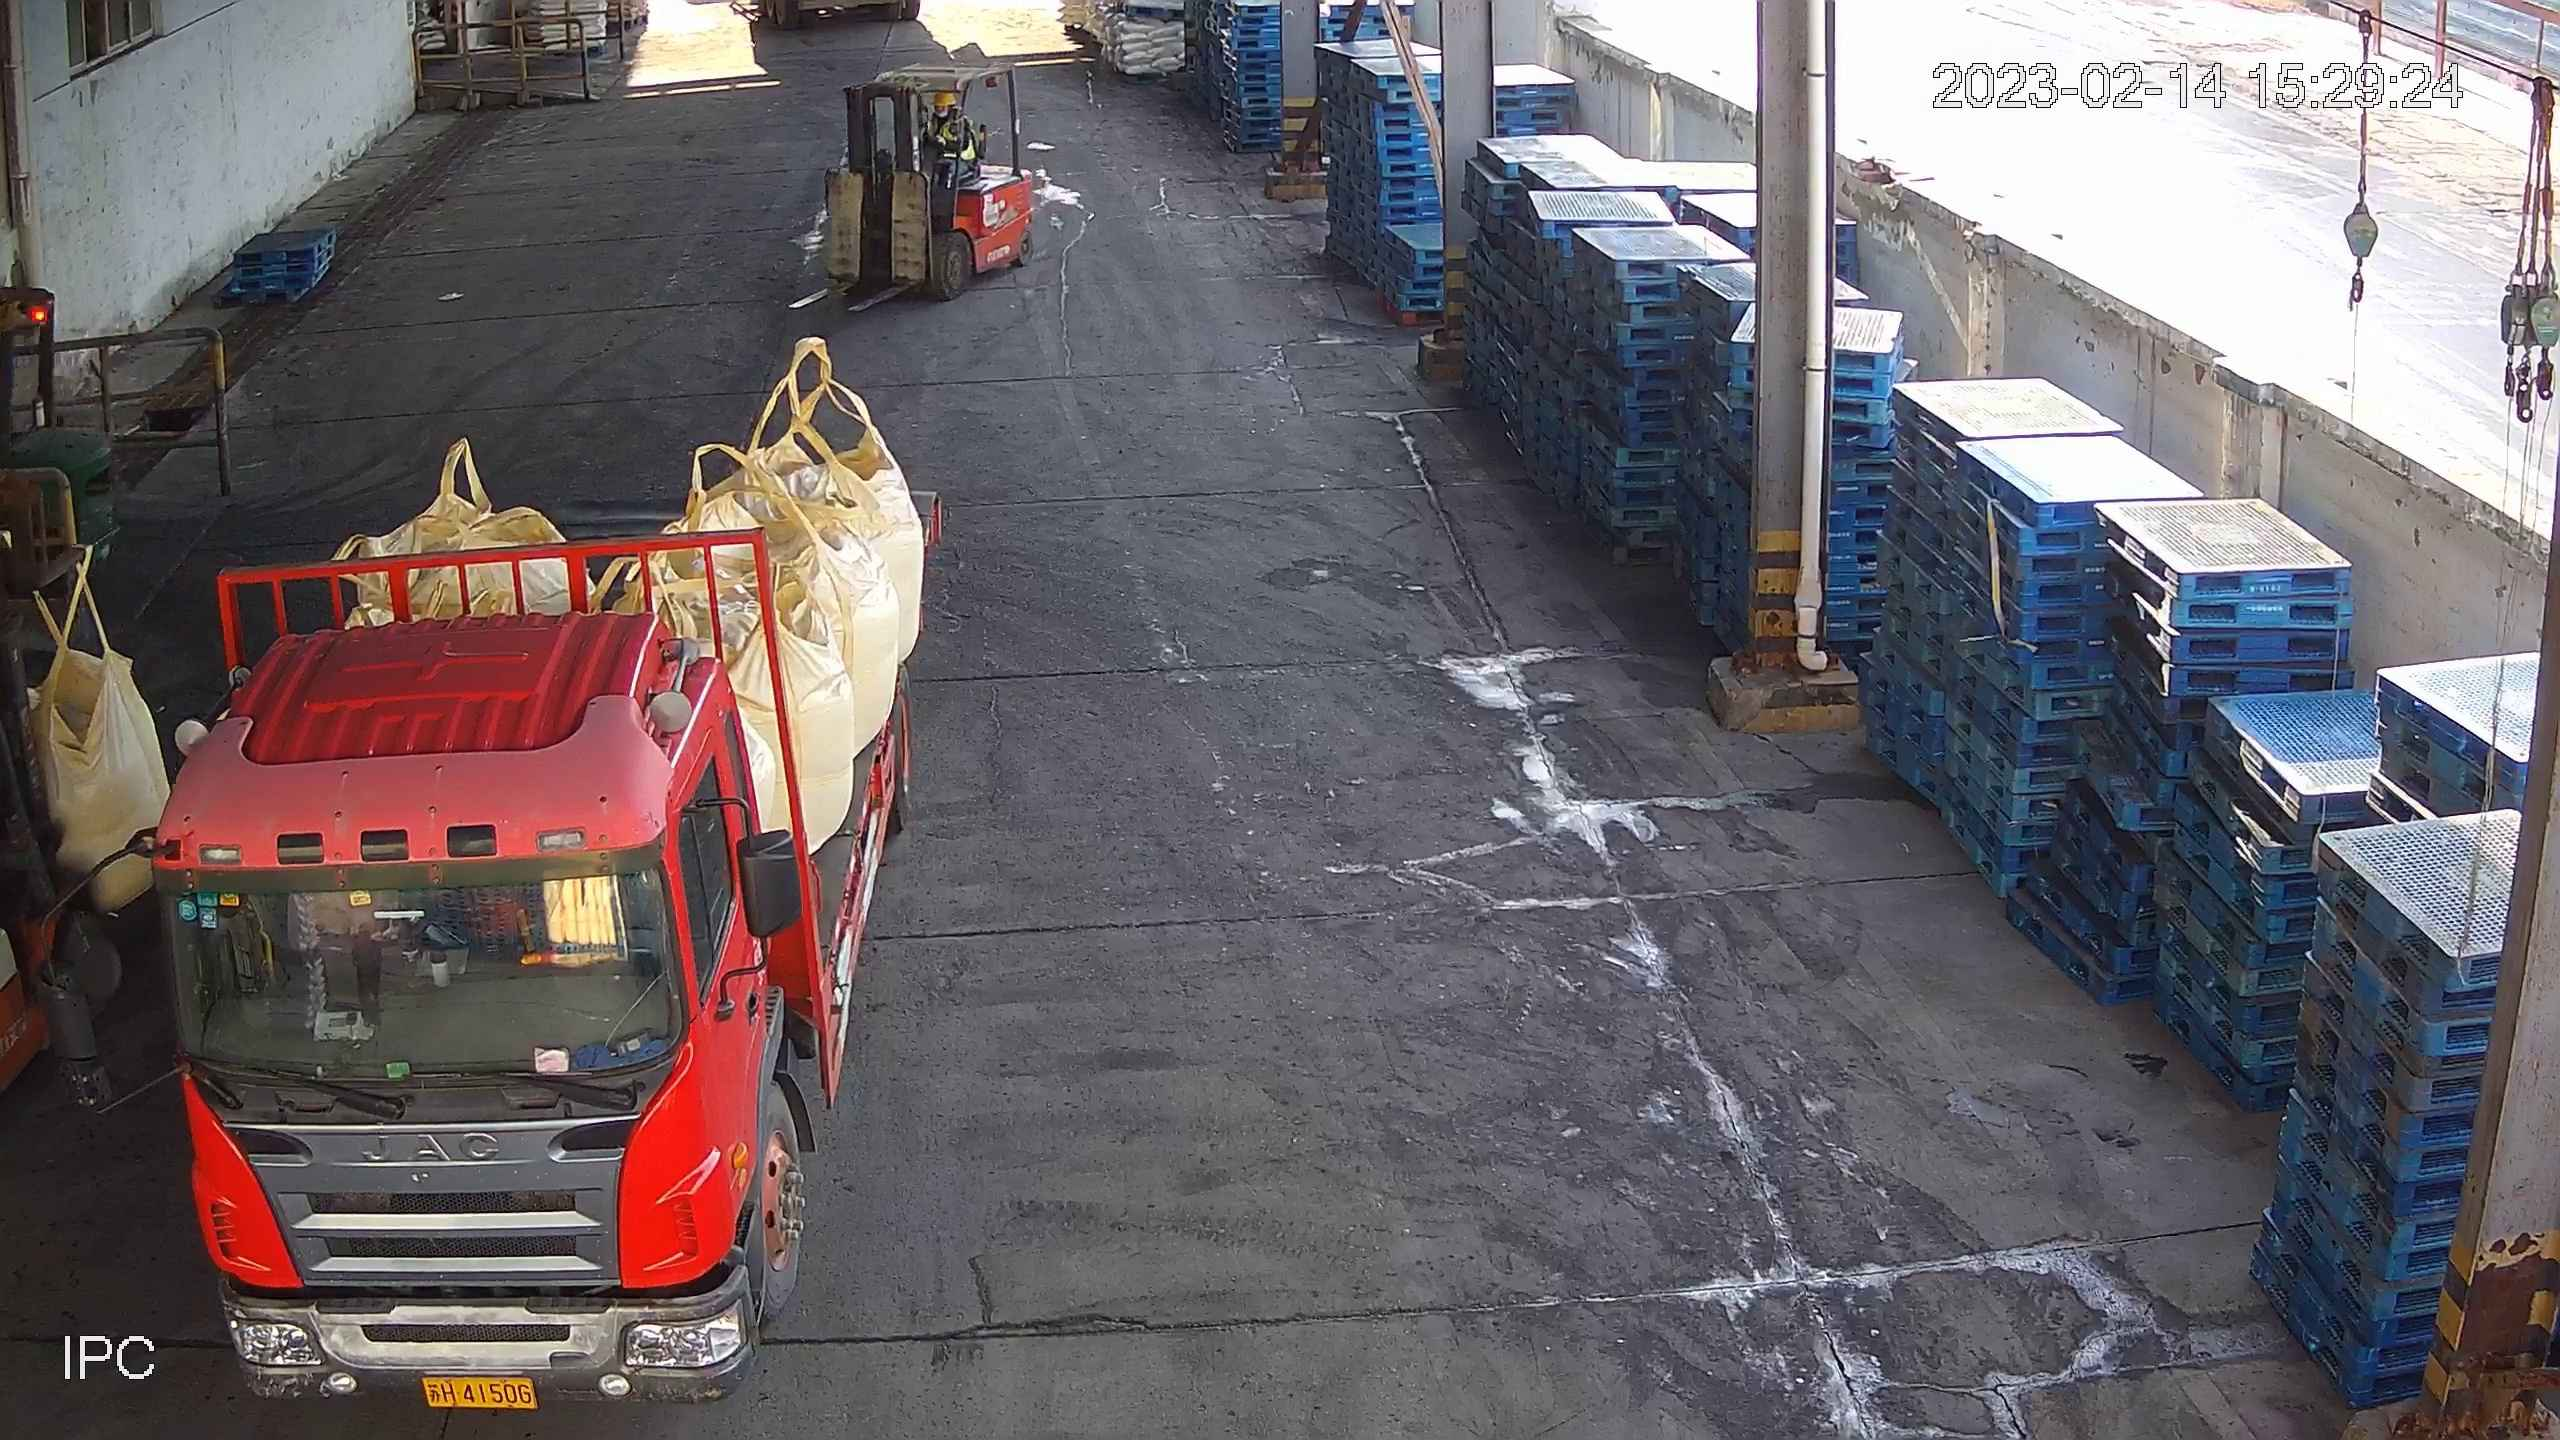helmet: (930, 91, 956, 105)
truck: (23, 489, 942, 1405)
